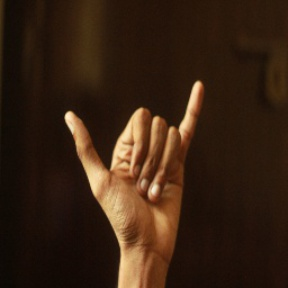J: (59, 70, 207, 246)
